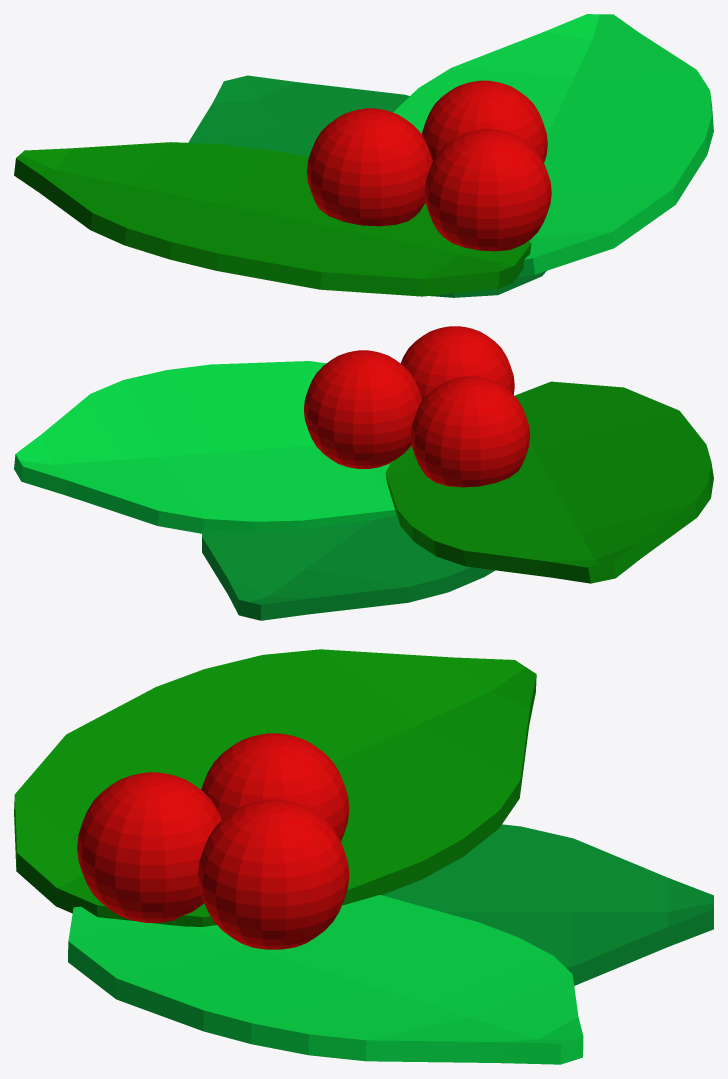
File: HealingHerbs_01.fbx
The picture shows the model from 3 angles, top to bottom: view 1: azimuth 30°, elevation 25°; view 2: azimuth 150°, elevation 25°; view 3: azimuth 270°, elevation 25°; orthographic projection. The views are drawn at different scales.
Parts seen in each view (by area): view 1: HealingHerbs_01; view 2: HealingHerbs_01; view 3: HealingHerbs_01.
Part boxes in pixels (box(x1,y1,x2,y2)): HealingHerbs_01: box(14, 14, 713, 297); HealingHerbs_01: box(14, 326, 713, 620); HealingHerbs_01: box(14, 649, 713, 1064).
Size of the model in its own units: 38.7 by 47.79 by 9.93.
